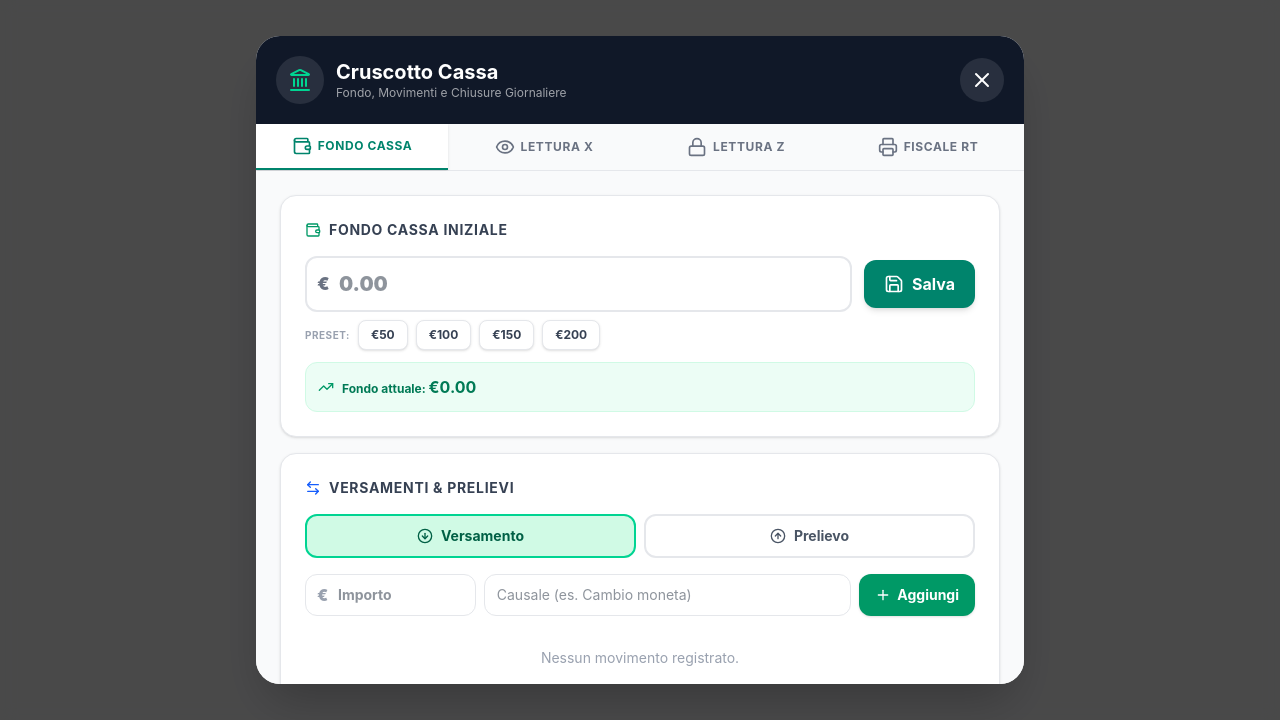
Test case: CassaDashboard — RT status renders placeholder for absent fields › renders "Sì"/"No" with colors when RT fields are present
Click the button "Fiscale RT": point(928, 147) 832,124 -> 1024,170
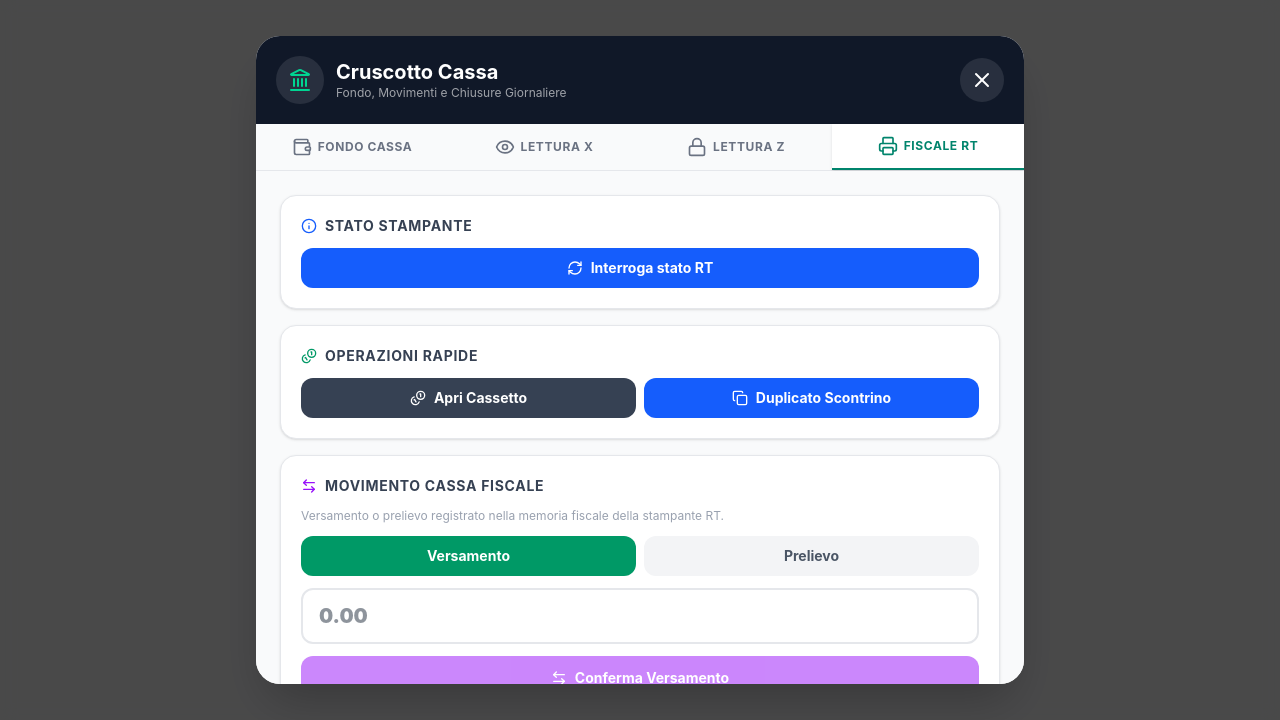
Click the button "Interroga stato RT": point(640, 268) 301,248 -> 979,288
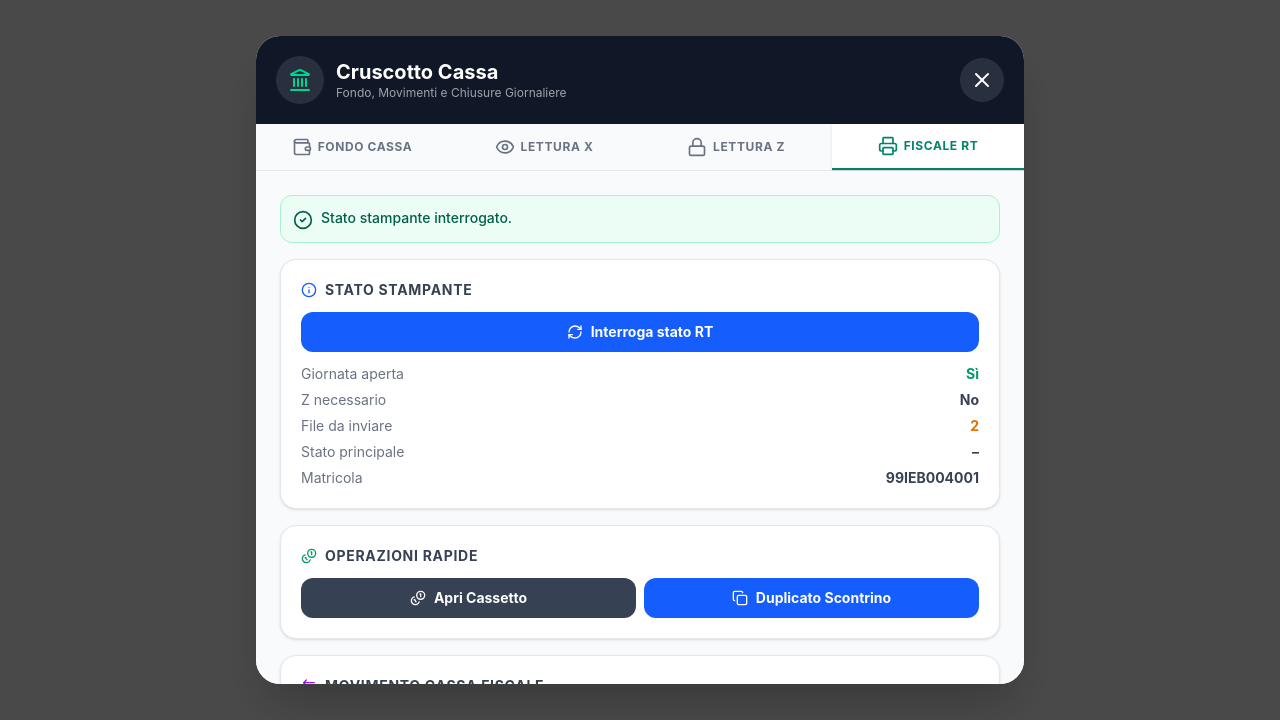
Check: the text "Giornata aperta Sì" is shown, box 301,364 -> 979,384
Check: the text "Z necessario No" is shown, box 301,390 -> 979,410
Check: the text "File da inviare 2" is shown, box 301,416 -> 979,436
